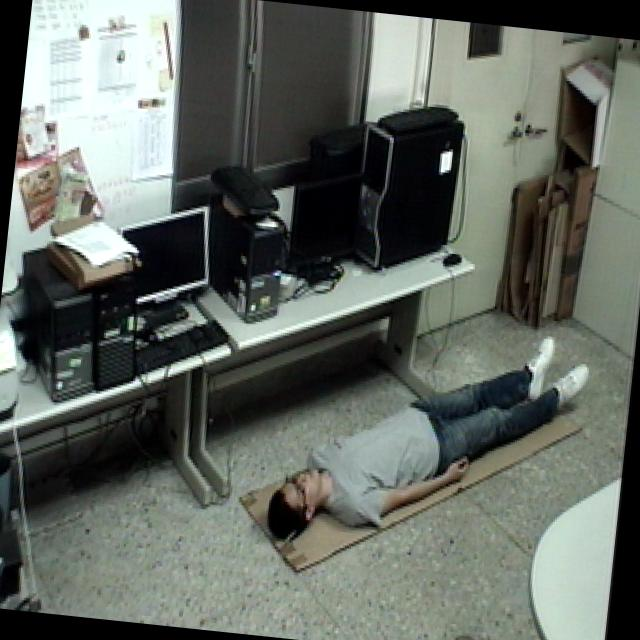lie: (261, 296, 597, 567)
